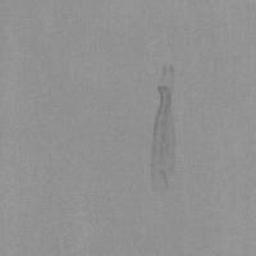Water spot: (148, 63, 178, 195)
